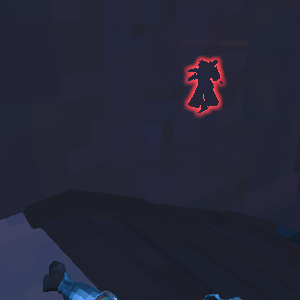model: (186, 51, 226, 117)
